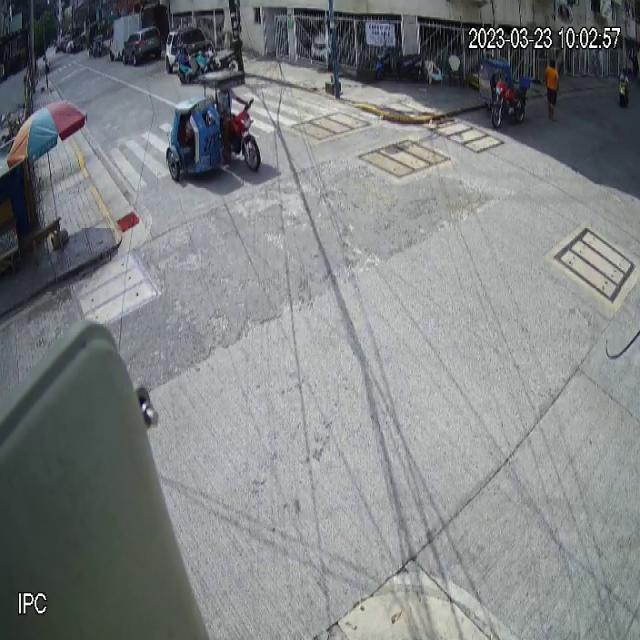Tricycle: (166, 70, 262, 184), (476, 51, 530, 132)
